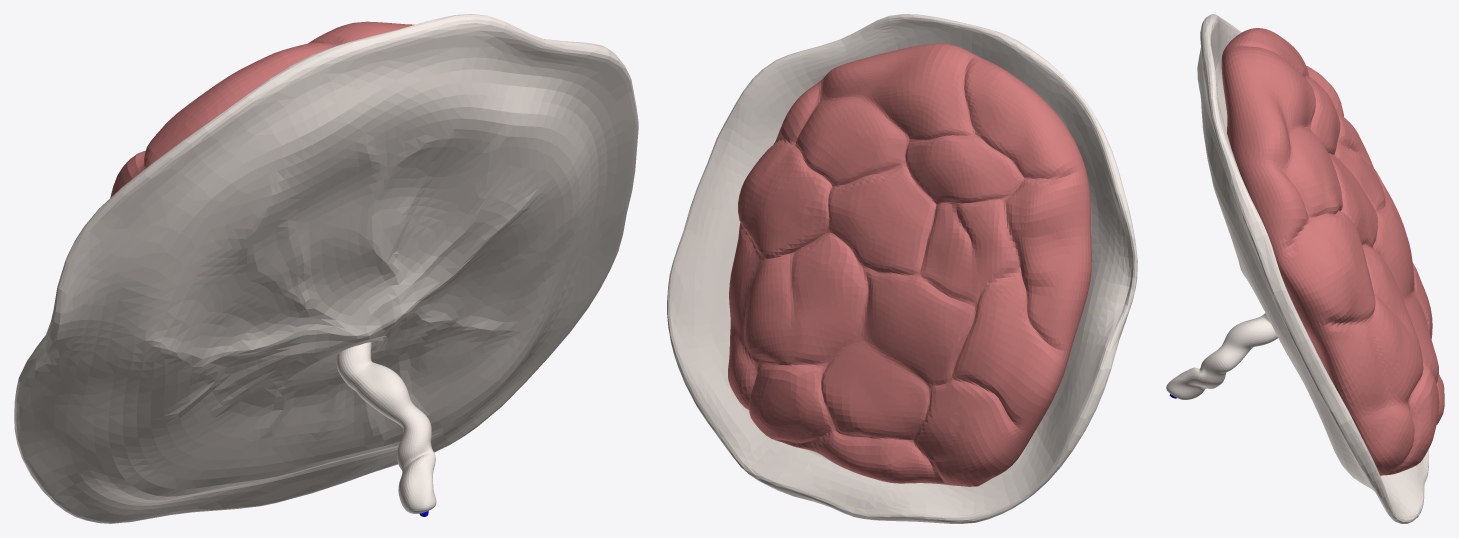
File: VH_F_Placenta_0.6.glb
3 renders of one model, left to right at view 1: azimuth 30°, elevation 25°; view 2: azimuth 150°, elevation 25°; view 3: azimuth 270°, elevation 25°, orthographic. The views are drawn at different scales.
Parts seen in each view (by area): view 1: VH_F_amnion, VH_F_basal_plate, VH_F_umbilical_cord; view 2: VH_F_basal_plate, VH_F_amnion; view 3: VH_F_basal_plate, VH_F_amnion, VH_F_chorionic_plate, VH_F_umbilical_cord.
Part boxes in pixels (x1=…): VH_F_amnion: x1=14, y1=14, x2=638, y2=523; VH_F_basal_plate: x1=110, y1=21, x2=414, y2=197; VH_F_umbilical_cord: x1=336, y1=342, x2=436, y2=513; VH_F_basal_plate: x1=728, y1=43, x2=1090, y2=486; VH_F_amnion: x1=667, y1=14, x2=1137, y2=523; VH_F_basal_plate: x1=1224, y1=28, x2=1444, y2=471; VH_F_amnion: x1=1197, y1=14, x2=1428, y2=523; VH_F_chorionic_plate: x1=1221, y1=46, x2=1400, y2=475; VH_F_umbilical_cord: x1=1166, y1=313, x2=1277, y2=399.
Bounding box in the file's own units: 0.2509 × 0.2305 × 0.1338.
